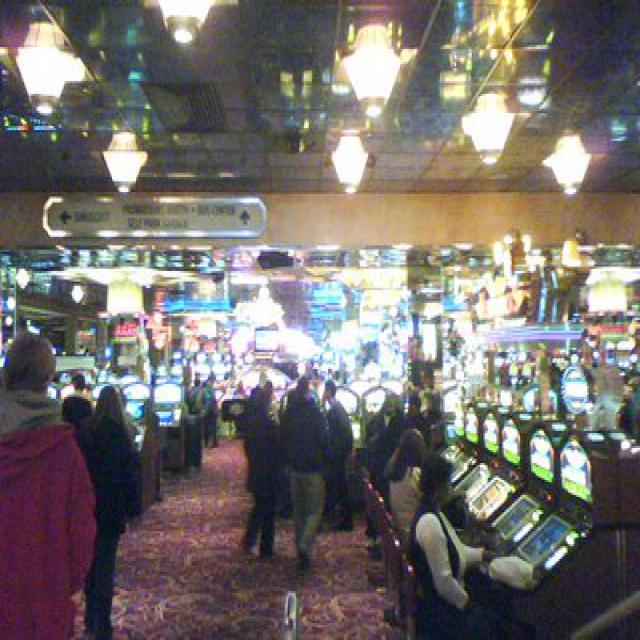ceiling beam: (2, 0, 638, 192)
